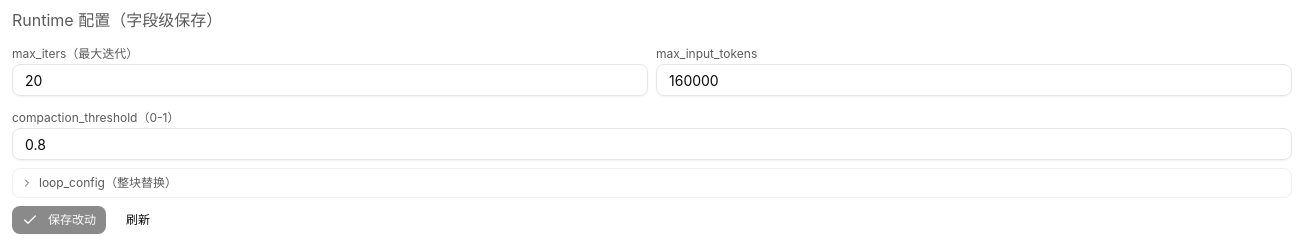
B5 WorkerRuntimeConfigPanel（#1231 消费） › ③ 只改 max_iters → PUT body 仅含 {max_iters:30}（字段级 diff）+ loop 提示
Expected: the text "Runtime 配置（字段级保存）" is shown, [12,8,222,32]
Replace the text in the number field showing "20" with "30" at (330, 80), box [12,64,648,96]
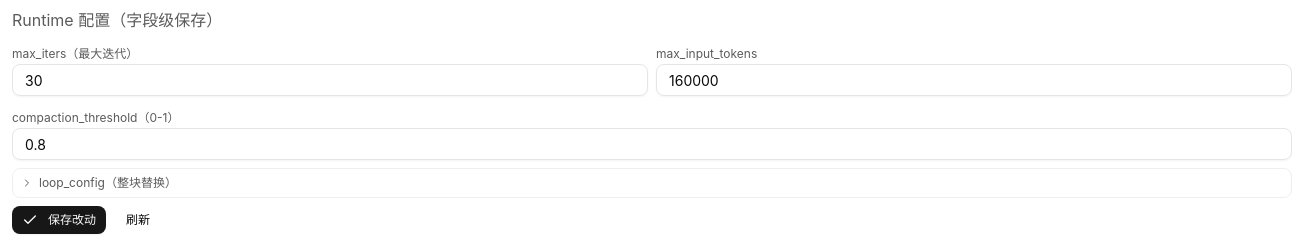
Click the button "保存改动".
click(59, 220)  # box [12,206,106,234]
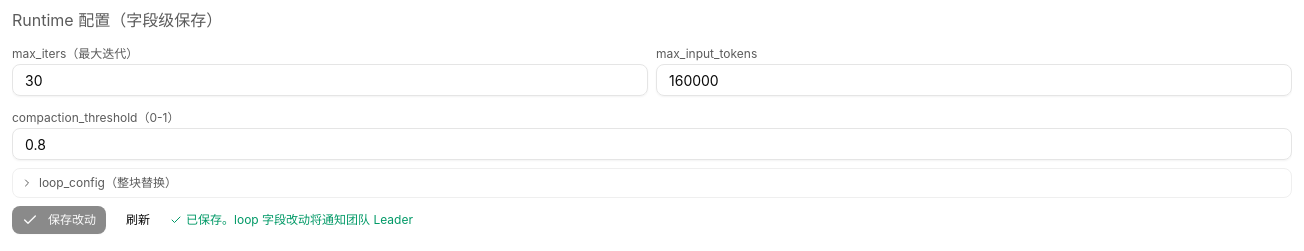
Expected: the text "已保存。loop 字段改动将通知团队 Leader" is shown, [170,212,413,228]
